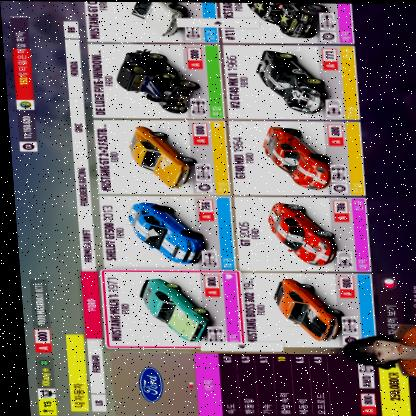streamer: (335, 313, 416, 380)
